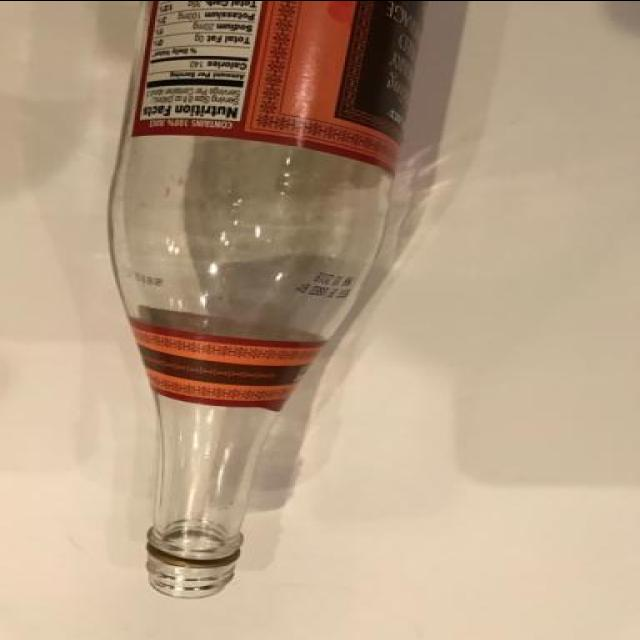litter: (100, 1, 428, 600)
